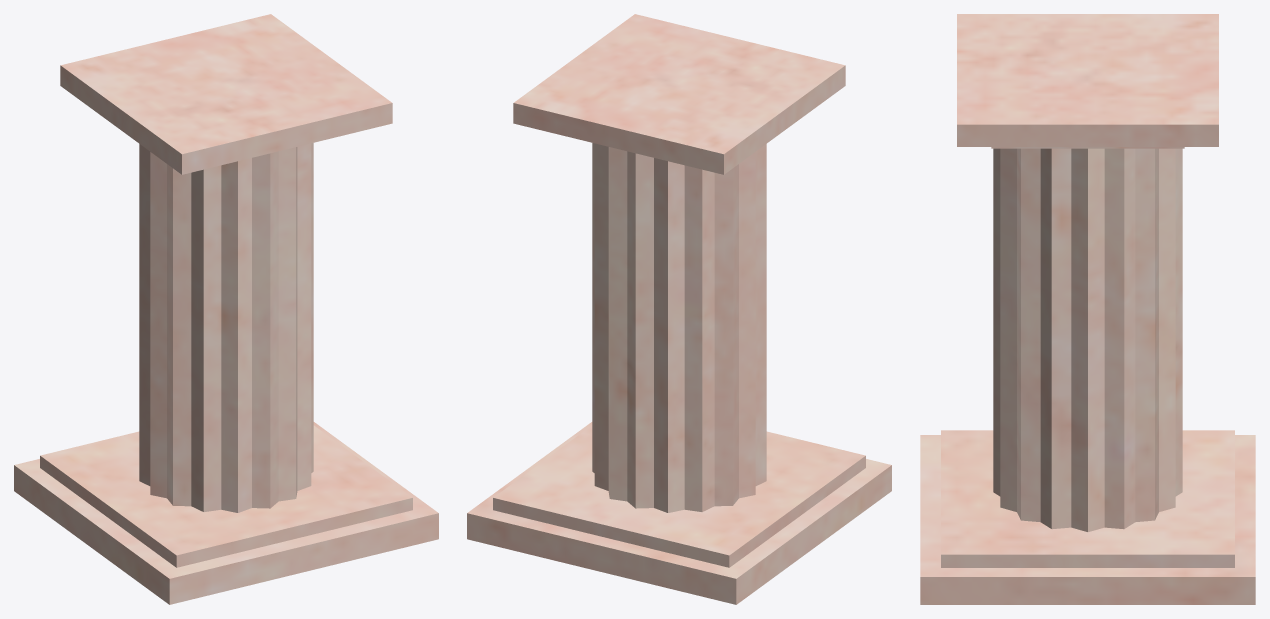
File: Pedestal.fbx
The picture shows the model from 3 angles, left to right: view 1: azimuth 30°, elevation 25°; view 2: azimuth 150°, elevation 25°; view 3: azimuth 270°, elevation 25°; orthographic projection. The views are drawn at different scales.
Parts seen in each view (by area): view 1: Pedestal; view 2: Pedestal; view 3: Pedestal.
Part boxes in pixels (x1,y1,x2,y2): Pedestal: (14, 14, 438, 604); Pedestal: (467, 14, 891, 604); Pedestal: (920, 14, 1255, 604).
Bounding box in the file's own units: 1.05 × 1.6 × 1.05.
